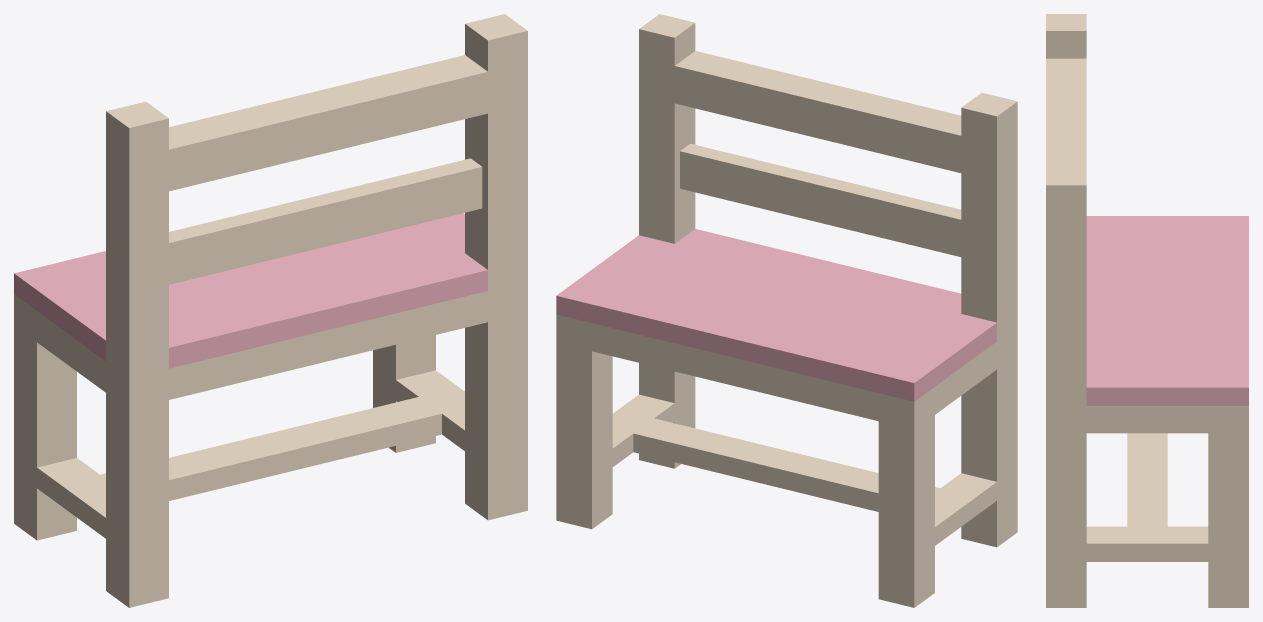
The model's file is furn_cushionbench.glb.
3 views of the same model, side by side, from view 1: azimuth 30°, elevation 25°; view 2: azimuth 150°, elevation 25°; view 3: azimuth 270°, elevation 25° (orthographic). The views are drawn at different scales.
Parts seen in each view (by area): view 1: cushionbench; view 2: cushionbench; view 3: cushionbench.
Boxes of the visible parts, x1,y1,x2,y2 form: cushionbench: (14,14,527,607); cushionbench: (556,14,1017,607); cushionbench: (1046,14,1248,607).
Bounding box in the file's own units: 0.7392 × 0.85 × 0.3695.
